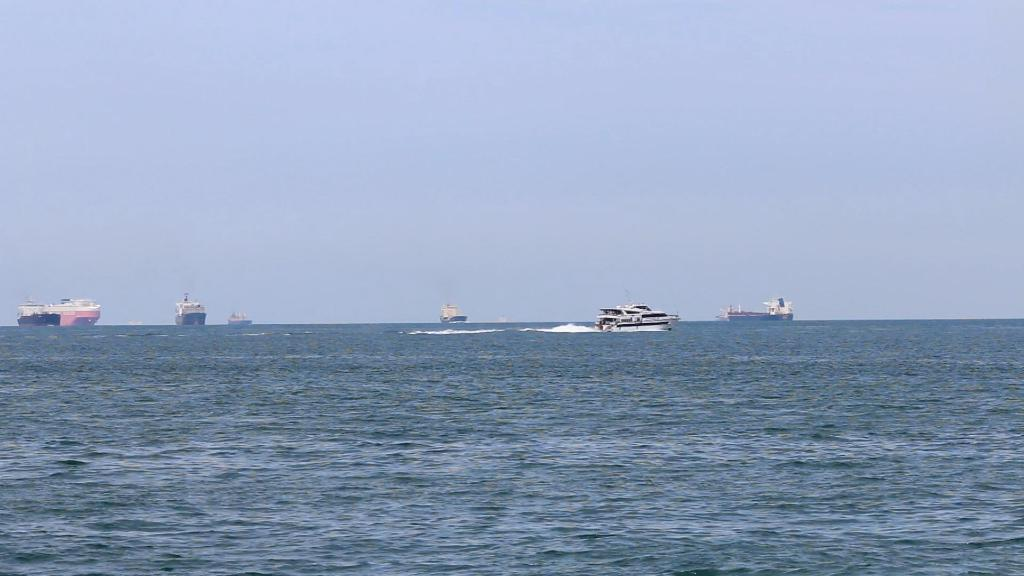PassengerShip: (588, 300, 684, 338)
